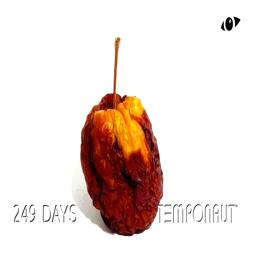Apple Rotten: (76, 17, 178, 236)
